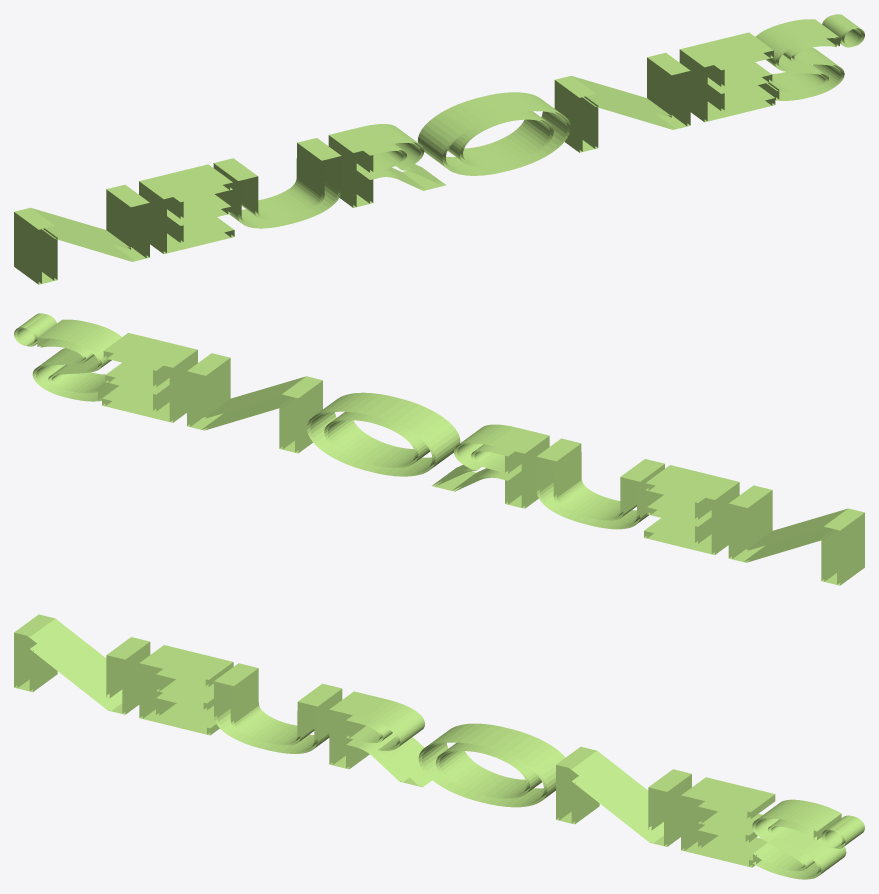
3 renders of one model, top to bottom at view 1: azimuth 30°, elevation 25°; view 2: azimuth 150°, elevation 25°; view 3: azimuth 330°, elevation 25°, orthographic.
Parts seen in each view (by area): view 1: Text; view 2: Text; view 3: Text.
Boxes of the visible parts, x1,y1,x2,y2 form: Text: (14, 14, 864, 284); Text: (14, 313, 864, 585); Text: (14, 614, 864, 879).
Size of the model in its own units: 11.59 by 0.7542 by 0.6.
